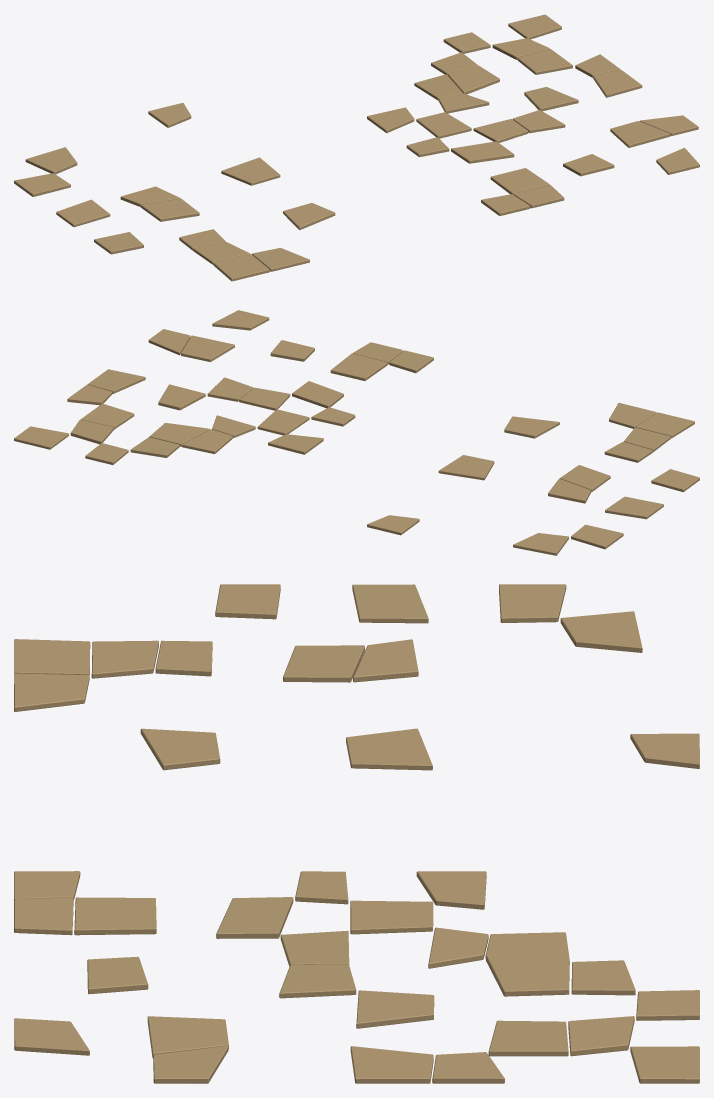
File: Floor3_ArenaStoneDark.fbx
3 views of the same model, one above another, from view 1: azimuth 30°, elevation 25°; view 2: azimuth 150°, elevation 25°; view 3: azimuth 270°, elevation 25° (orthographic). The views are drawn at different scales.
Parts seen in each view (by area): view 1: Arena2-1_0_3.001; view 2: Arena2-1_0_3.001; view 3: Arena2-1_0_3.001.
Part boxes in pixels (x1=…): Arena2-1_0_3.001: x1=14, y1=14, x2=699, y2=281; Arena2-1_0_3.001: x1=14, y1=310, x2=699, y2=555; Arena2-1_0_3.001: x1=14, y1=584, x2=699, y2=1083.
Size of the model in its own units: 14979 by 87.67 by 8780.
